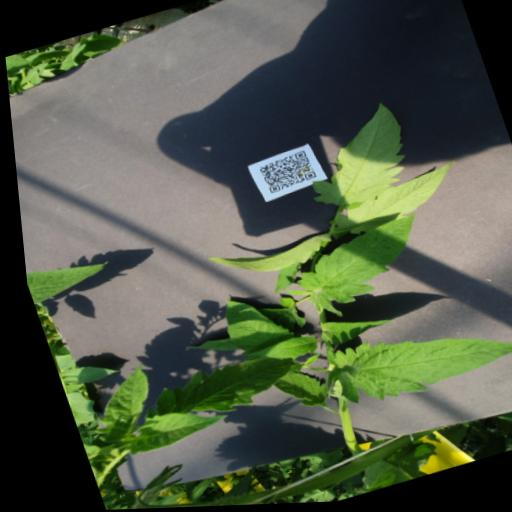Healthy: (312, 299, 512, 417), (276, 215, 437, 328), (282, 99, 420, 222), (136, 343, 298, 432), (322, 162, 468, 243), (199, 224, 332, 289), (68, 363, 156, 447), (106, 397, 224, 458), (208, 287, 291, 359), (19, 249, 110, 306), (308, 306, 390, 351), (261, 366, 324, 420), (235, 332, 315, 373), (48, 354, 114, 390), (259, 263, 301, 297)
